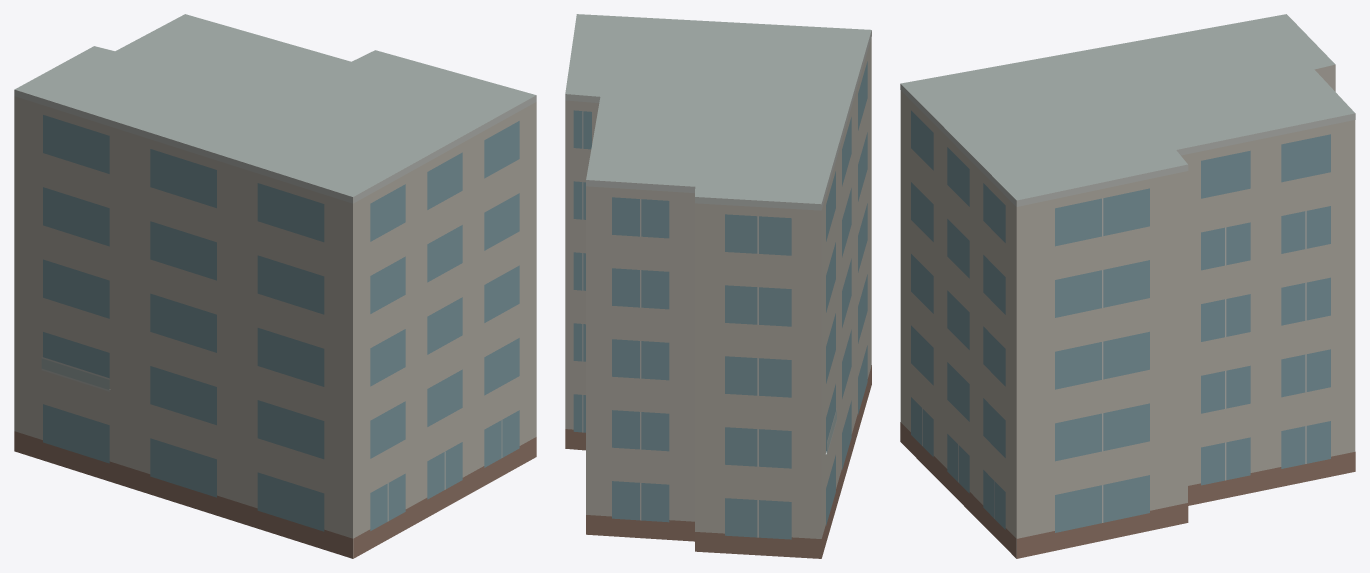
Rendered from survey-upis-32921855.glb.
3 views of the same model, side by side, from view 1: azimuth 30°, elevation 25°; view 2: azimuth 150°, elevation 25°; view 3: azimuth 270°, elevation 25° (orthographic).
Parts seen in each view (by area): view 1: survey-upis-32921855.tmp; view 2: survey-upis-32921855.tmp; view 3: survey-upis-32921855.tmp.
Boxes of the visible parts, x1=… form: survey-upis-32921855.tmp: x1=14, y1=14, x2=536, y2=558; survey-upis-32921855.tmp: x1=565, y1=14, x2=871, y2=558; survey-upis-32921855.tmp: x1=900, y1=14, x2=1355, y2=558.
Size of the model in its own units: 15.02 by 13.45 by 15.49.
